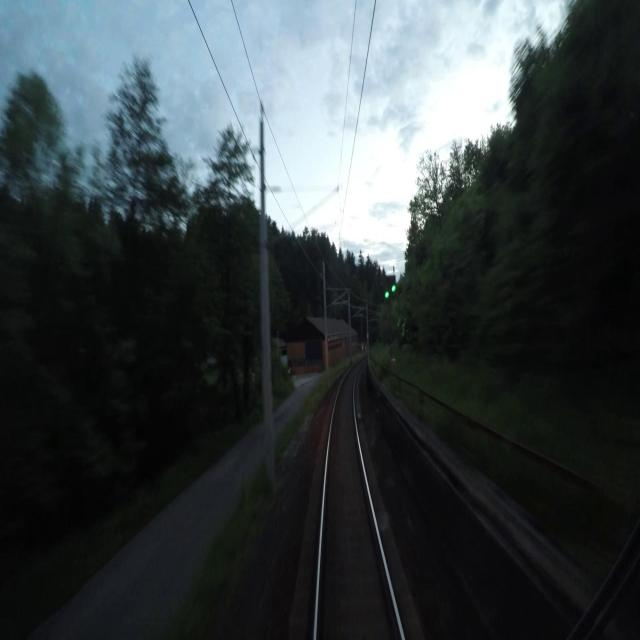rail-track: (318, 364, 400, 639)
